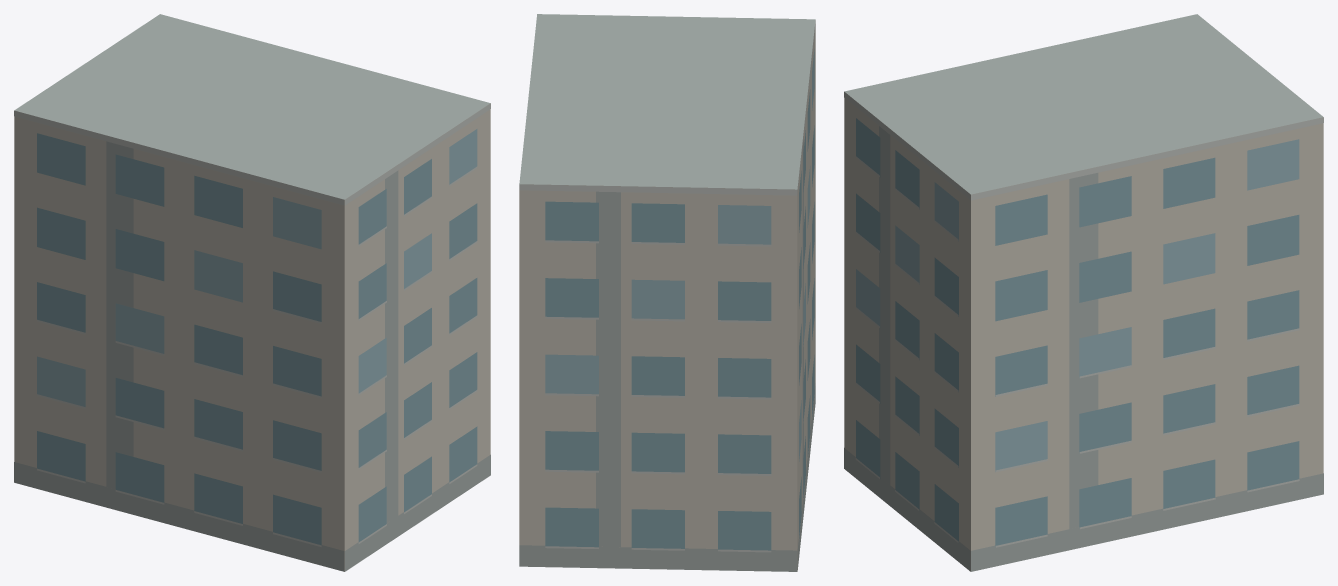
Rendered from residential-82f72ebc-3800-47b6-b1d5-1e44c7ba9e81.glb.
The picture shows the model from 3 angles, left to right: view 1: azimuth 30°, elevation 25°; view 2: azimuth 150°, elevation 25°; view 3: azimuth 270°, elevation 25°; orthographic projection. The views are drawn at different scales.
Parts seen in each view (by area): view 1: residential-82f72ebc-3800-47b6-b1d5-1e44c7ba9e81.tmp; view 2: residential-82f72ebc-3800-47b6-b1d5-1e44c7ba9e81.tmp; view 3: residential-82f72ebc-3800-47b6-b1d5-1e44c7ba9e81.tmp.
Part boxes in pixels (x1,y1,x2,y2): residential-82f72ebc-3800-47b6-b1d5-1e44c7ba9e81.tmp: (14, 14, 490, 571); residential-82f72ebc-3800-47b6-b1d5-1e44c7ba9e81.tmp: (519, 14, 815, 571); residential-82f72ebc-3800-47b6-b1d5-1e44c7ba9e81.tmp: (844, 14, 1323, 571).
Bounding box in the file's own units: 15.66 × 15.25 × 17.58.
